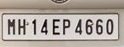0: (105, 19, 114, 35)
1: (31, 18, 38, 36)
4: (40, 18, 50, 35), (74, 18, 84, 35)
6: (85, 18, 94, 35), (96, 18, 104, 35)
E: (52, 18, 61, 35)
H: (17, 18, 26, 35)
M: (7, 18, 16, 35)
P: (62, 18, 71, 35)
